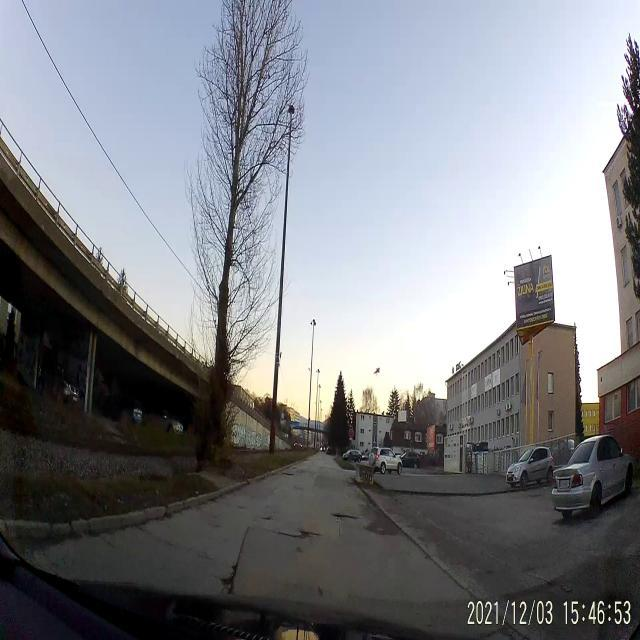Pothole: (218, 560, 242, 594), (278, 524, 320, 542), (332, 509, 360, 526)
